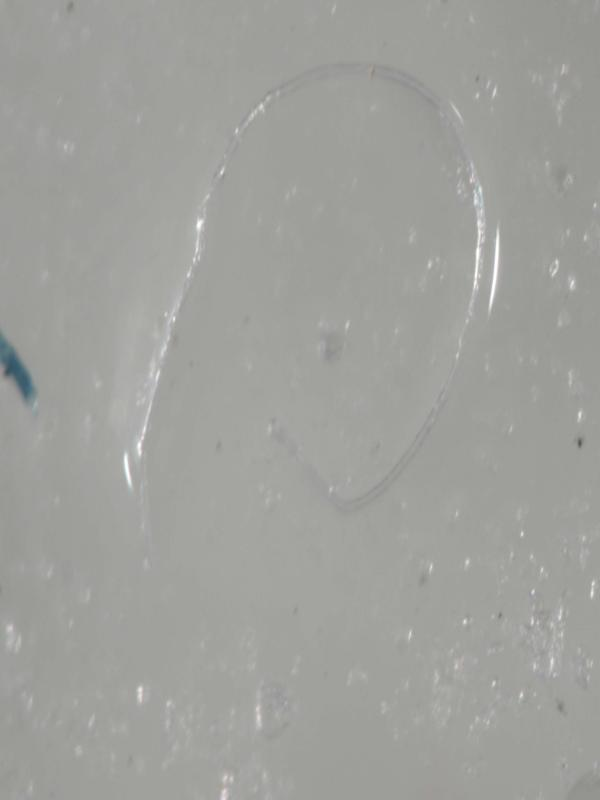microplastic: (1, 2, 598, 796), (123, 57, 496, 539)
